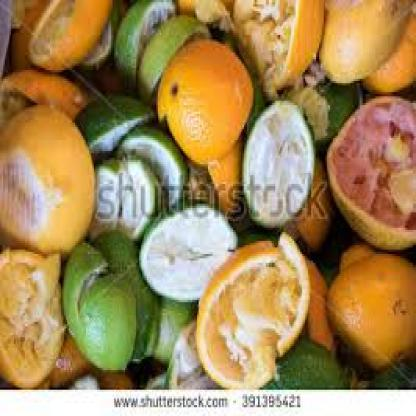Disposable tableware: (1, 2, 416, 391)
